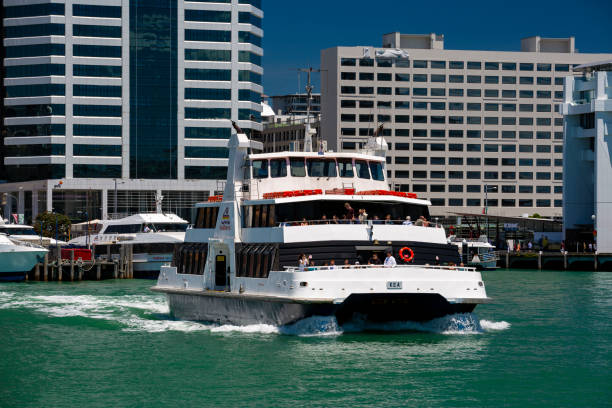ferry: (151, 132, 494, 335)
